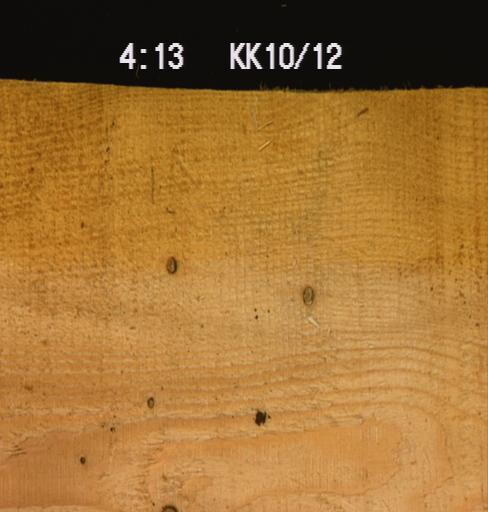dry_knot: (297, 284, 315, 307)
edge_knot: (156, 501, 181, 511)
small_knot: (143, 392, 157, 410), (76, 452, 89, 466)
